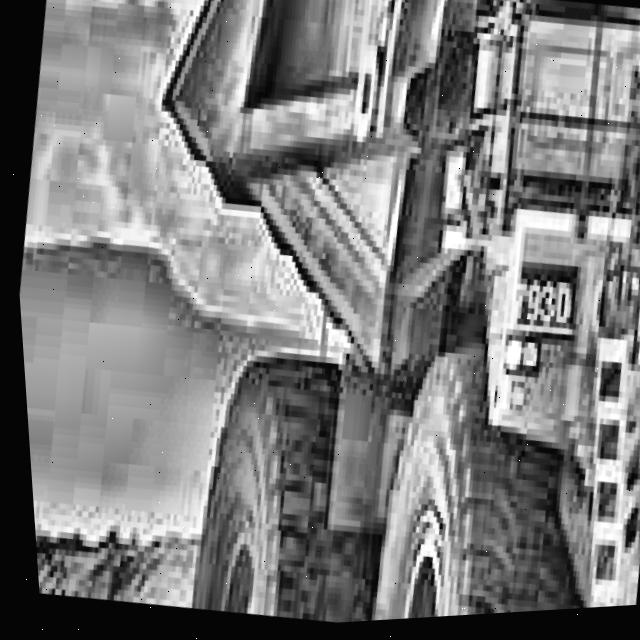dump_truck: (82, 0, 640, 636)
